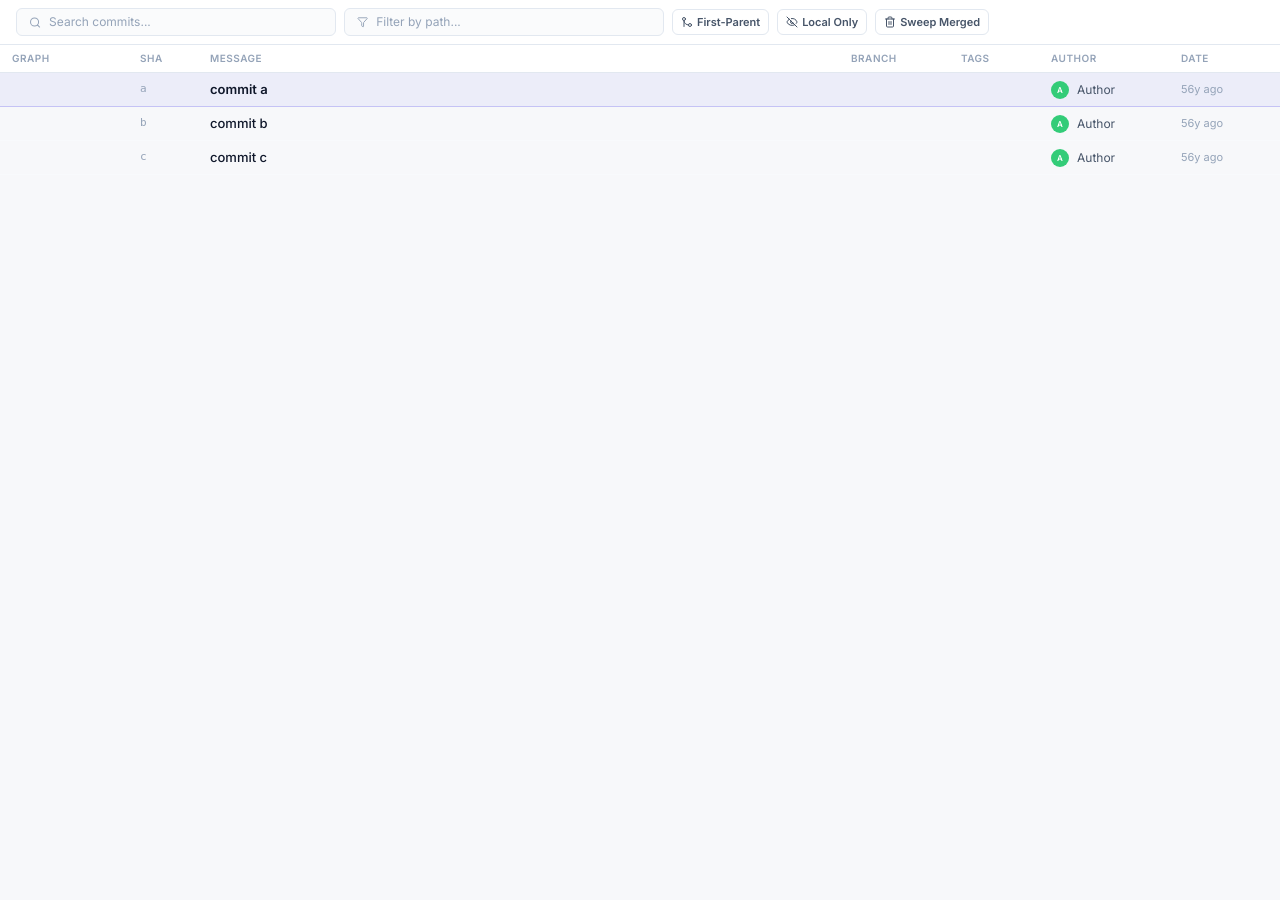
Test: CommitList › hides the graph while the commit filter is active
Expected: the text "commit a" is shown, x1=210 y1=80 x2=268 y2=99
Expected: the drawing with class "commit-graph-canvas" is shown, x1=12 y1=73 x2=132 y2=899
In the field with placeholder "Search commits...": (186, 22) x1=49 y1=13 x2=323 y2=31, type "commit b"
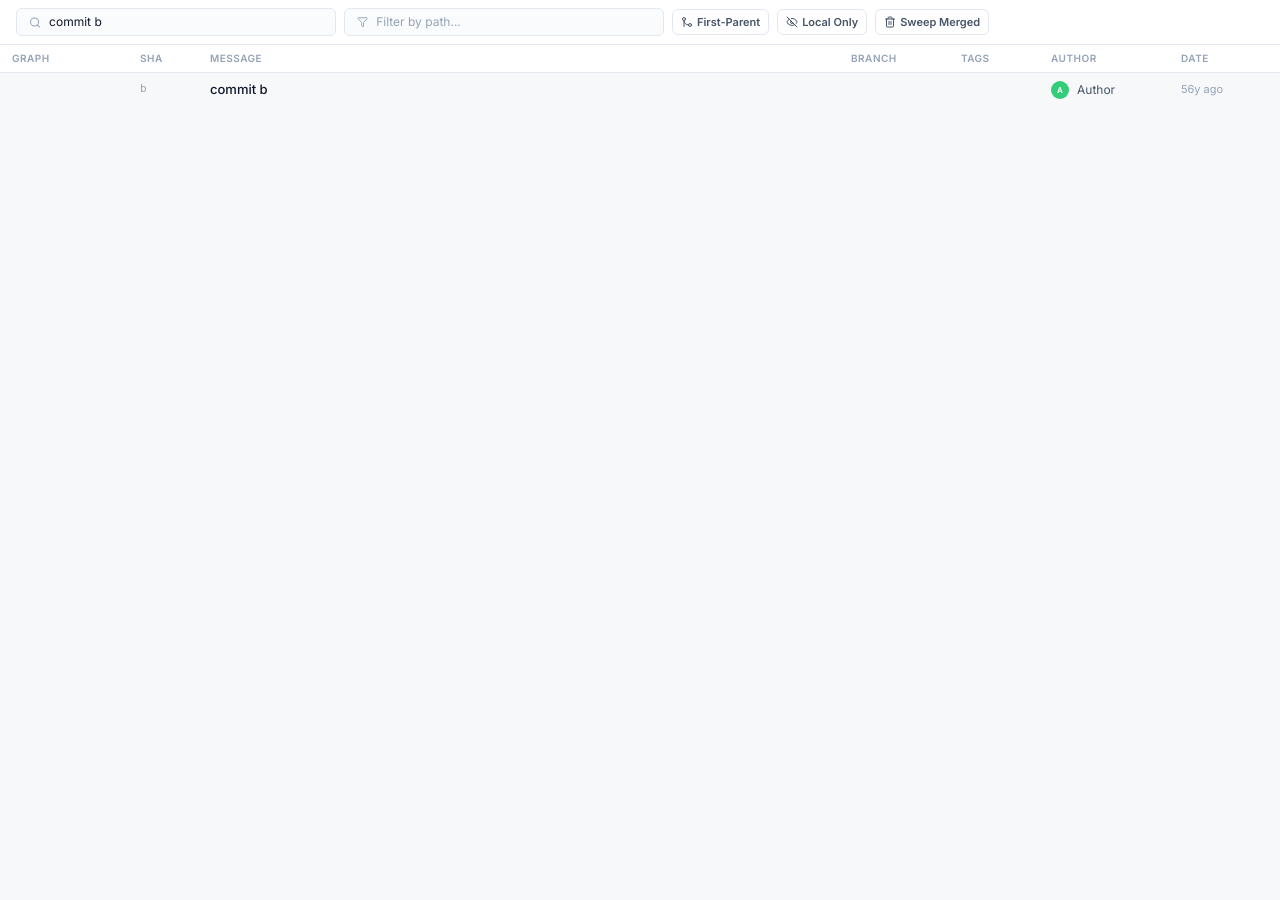
Expected: the button "commit a" is gone
Expected: the drawing with class "commit-graph-canvas" is gone
